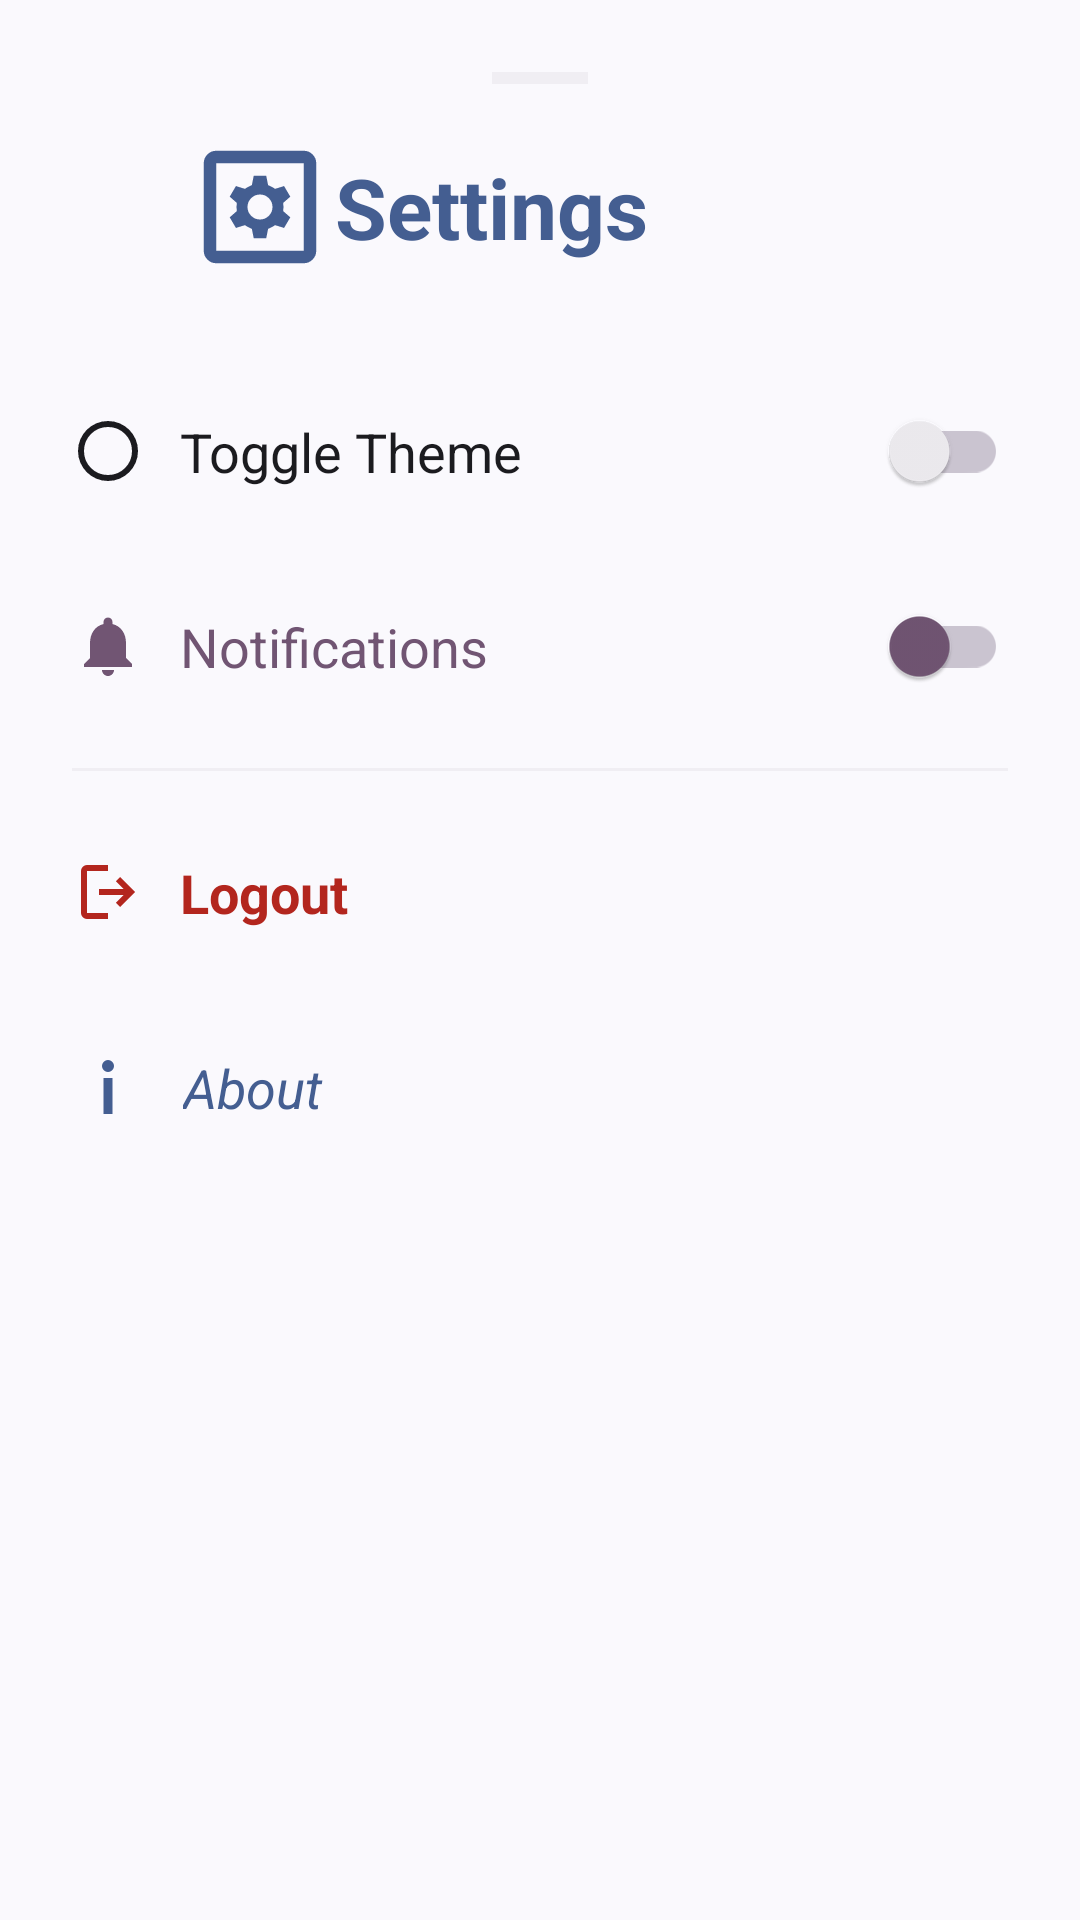

Icons on this 1080 × 1920 Android screen, each with its box as (x1, y1, x2, y2):
circle: (78, 421, 138, 481)
info: (102, 1060, 114, 1114)
